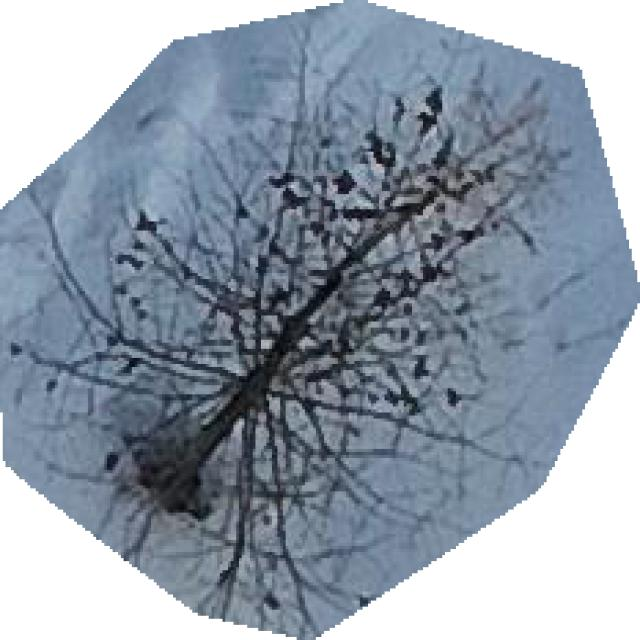trembling aspen: (0, 0, 637, 637)
